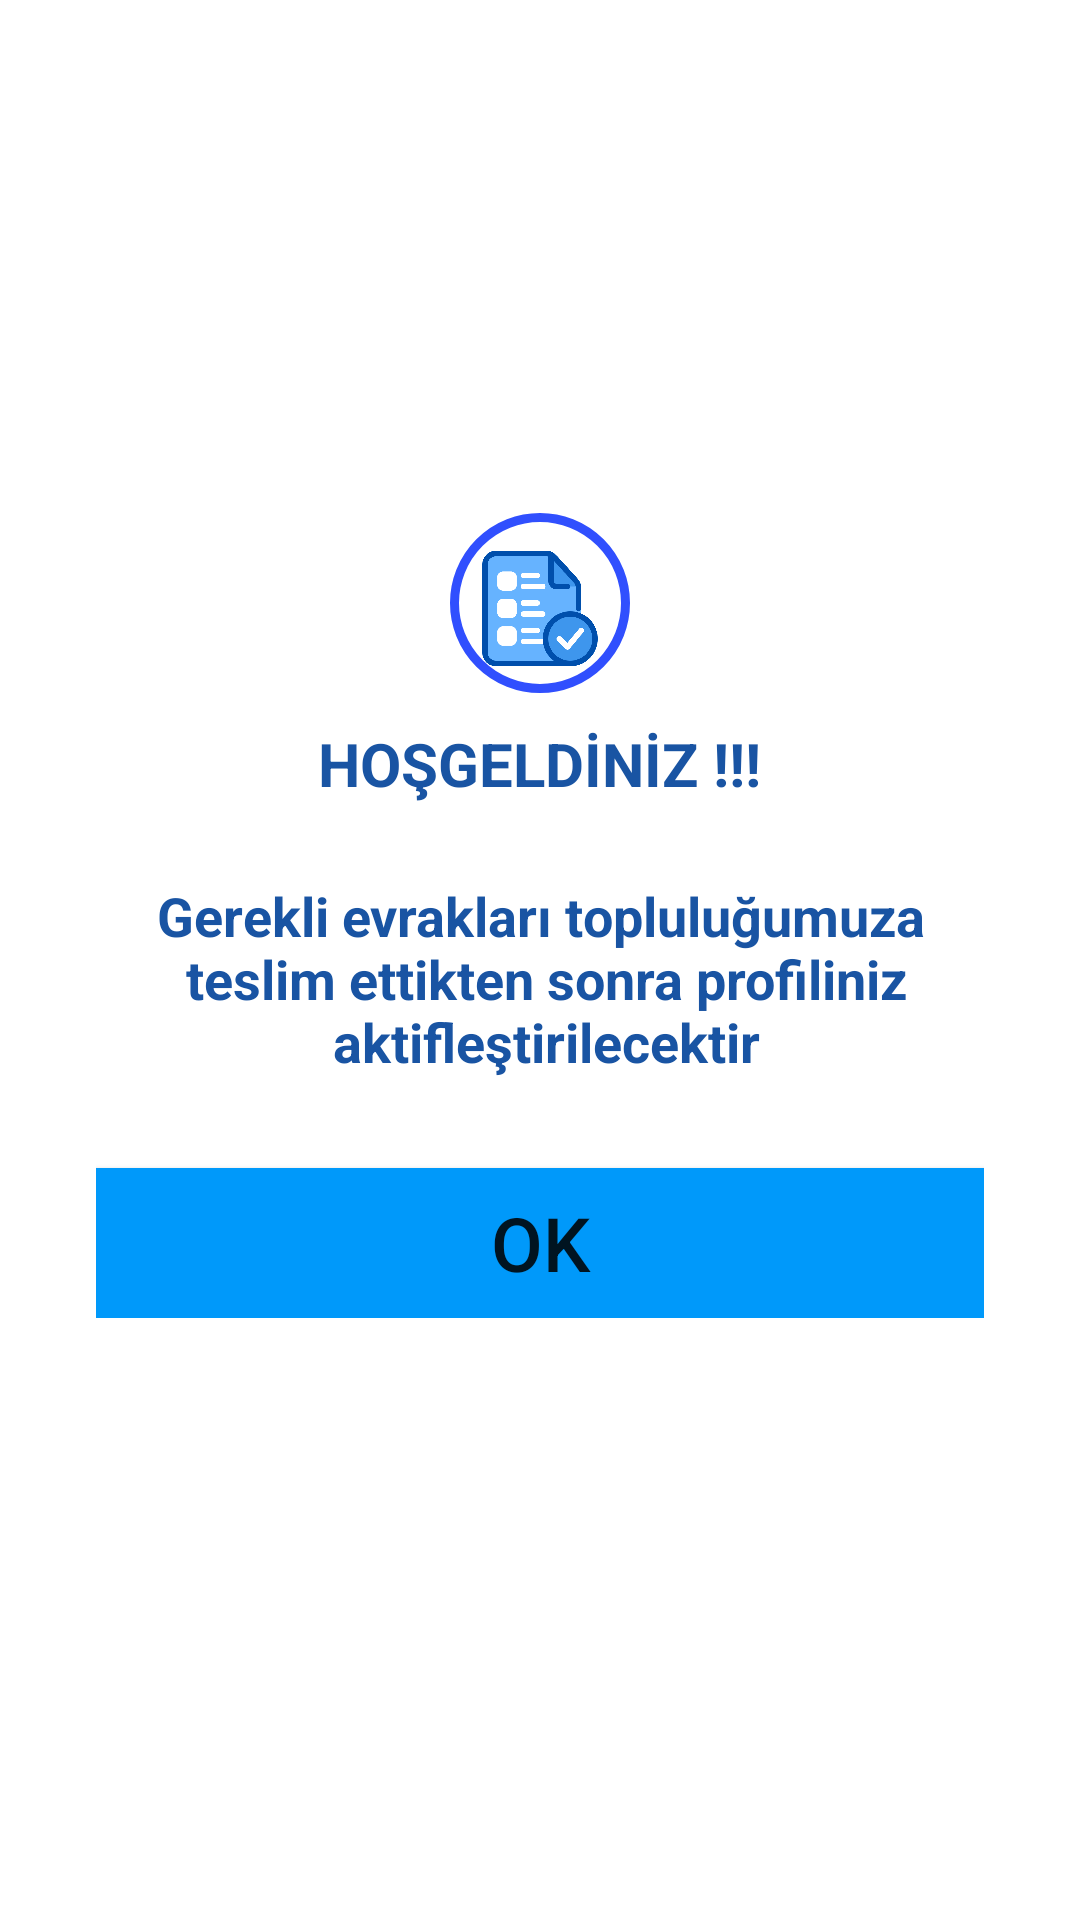

Locate icon controls on the screen. Image size 1080x1920, boxes as (x1, y1, x2, y2).
checking: (450, 513, 630, 693)
